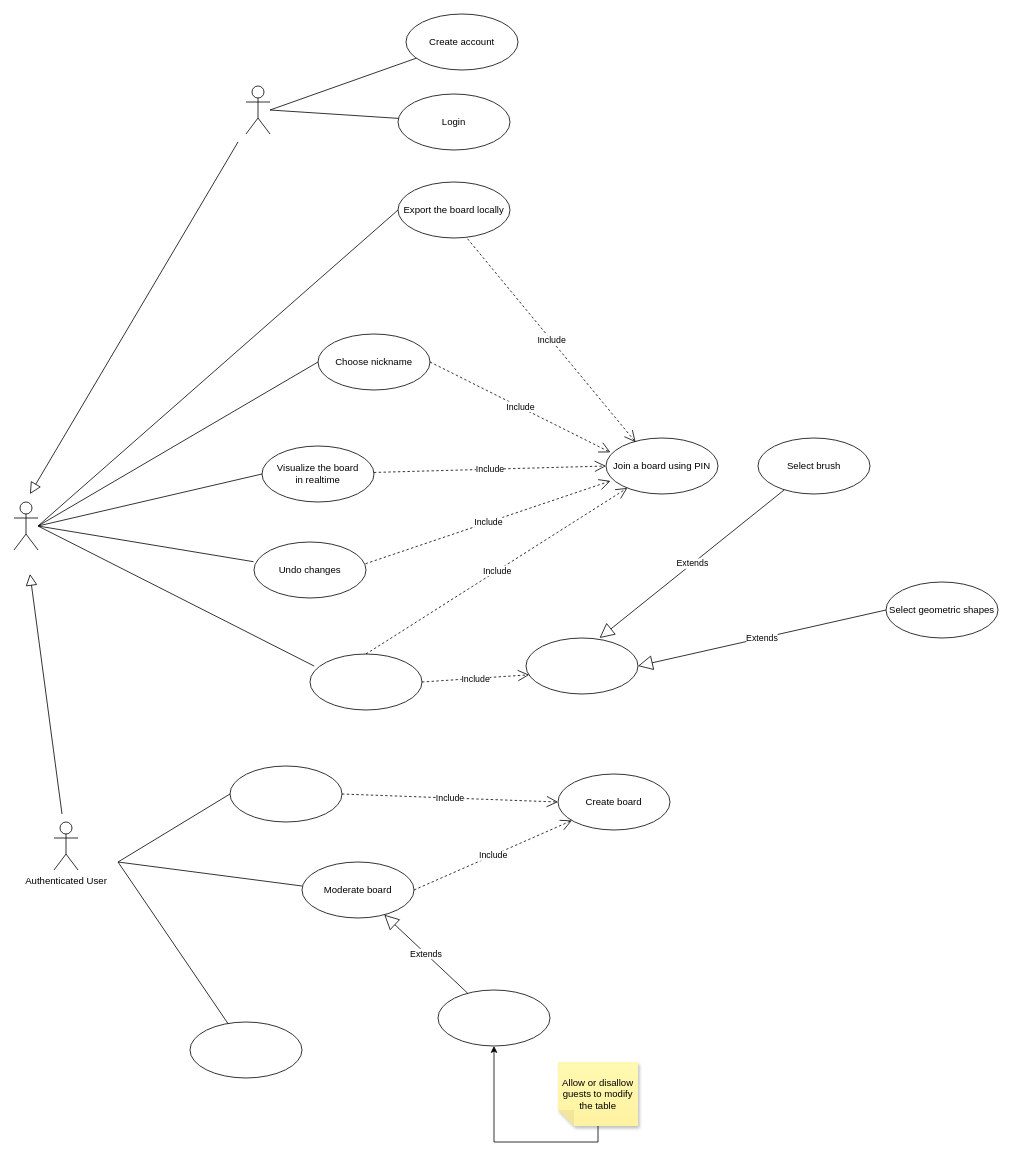
The diagram is 1012 pixels wide and 1162 high, and some of its shapes have lost their labels. Each missing label, with the centre of its shape:
"Alter guest rights" belongs at point (493, 1017).
"Choose tool to draw" belongs at point (581, 665).
"Draw on the board in realtime" belongs at point (365, 681).
"Generate board PIN" belongs at point (285, 793).
"Logout" belongs at point (245, 1049).
"Non authenticated user" belongs at point (257, 109).
"User" belongs at point (25, 525).
